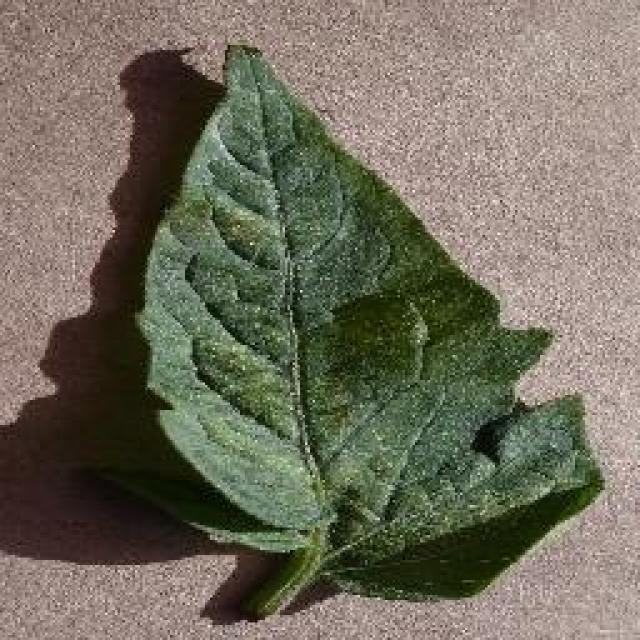Tom_Spider_mites Two-spotted_spider_mite: (166, 122, 402, 474)
